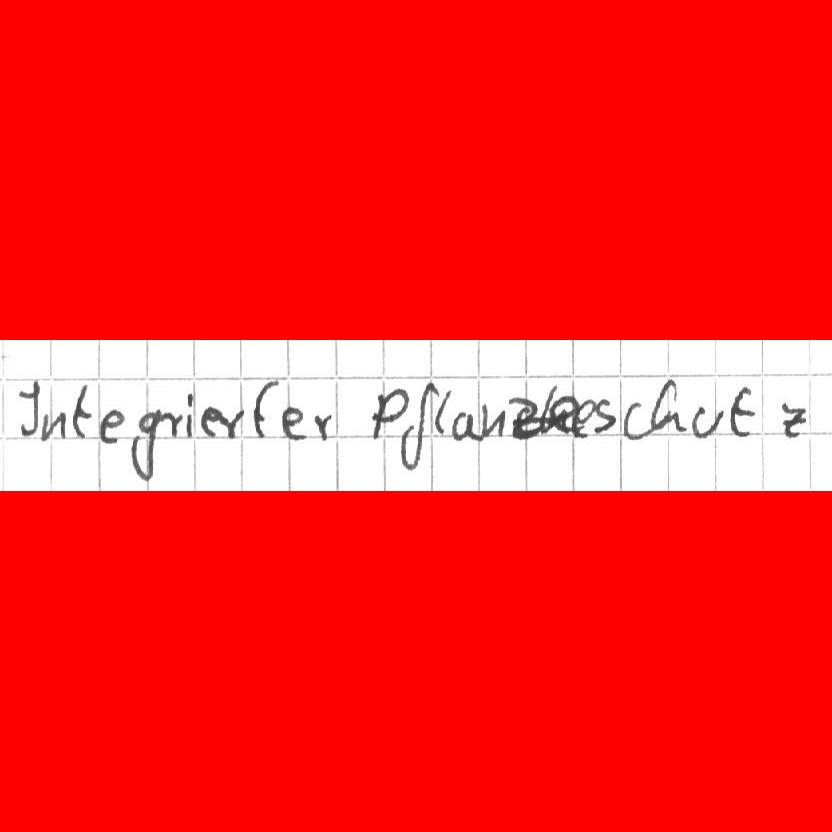Char: (401, 377, 438, 470), (130, 406, 161, 483), (370, 386, 410, 443), (649, 372, 683, 438), (252, 376, 280, 441), (726, 383, 759, 438), (14, 377, 40, 442), (69, 380, 92, 440), (776, 398, 808, 440), (690, 403, 725, 440), (98, 405, 126, 446), (621, 398, 647, 440), (281, 404, 308, 443), (592, 394, 617, 436), (432, 386, 453, 435), (39, 408, 68, 443), (218, 406, 247, 439), (481, 400, 506, 438), (454, 410, 481, 442), (200, 404, 223, 438), (159, 409, 182, 439), (313, 411, 333, 443), (185, 389, 196, 443)
